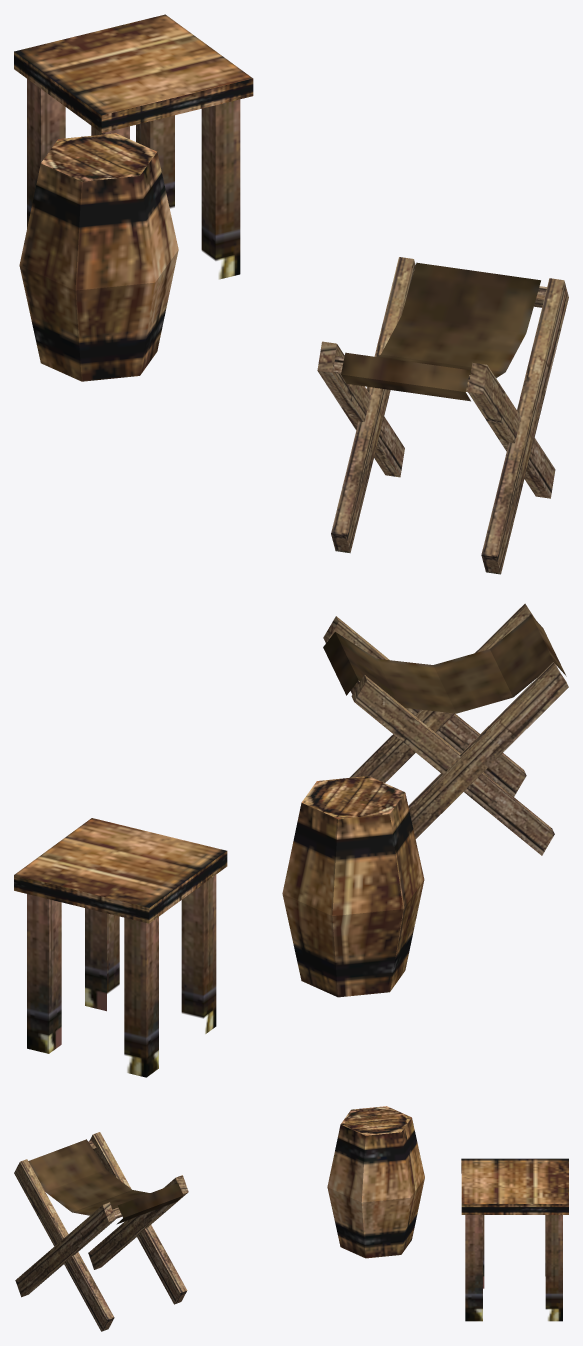
File: rome_tent_b_props.glb
The picture shows the model from 3 angles, top to bottom: view 1: azimuth 30°, elevation 25°; view 2: azimuth 150°, elevation 25°; view 3: azimuth 270°, elevation 25°; orthographic projection. The views are drawn at different scales.
Parts seen in each view (by area): view 1: Object003; view 2: Object003; view 3: Object003.
Boxes of the visible parts, <box> form: Object003: <box>14,14,568,574</box>; Object003: <box>14,603,568,1077</box>; Object003: <box>14,1106,568,1331</box>.
Bounding box in the file's own units: 2.85 × 1.98 × 6.99.
Materials: 1 (1 with a texture image).
